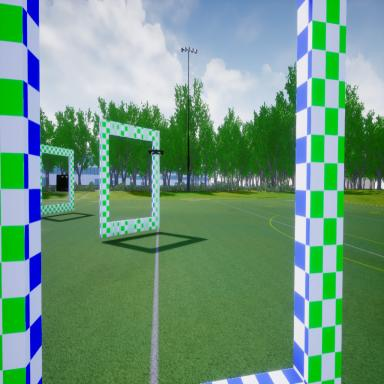gate: (98, 117, 161, 242)
